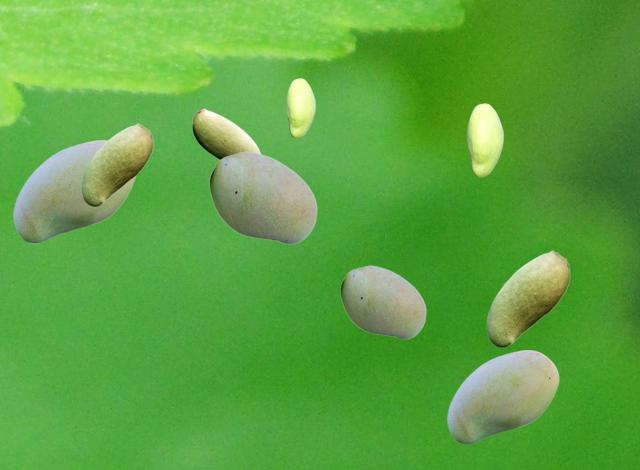green_mango: (13, 140, 135, 241), (447, 350, 558, 442), (209, 151, 316, 243), (486, 250, 569, 346), (340, 265, 425, 338), (81, 123, 152, 205), (192, 108, 261, 159), (467, 103, 502, 176), (286, 78, 314, 137)
